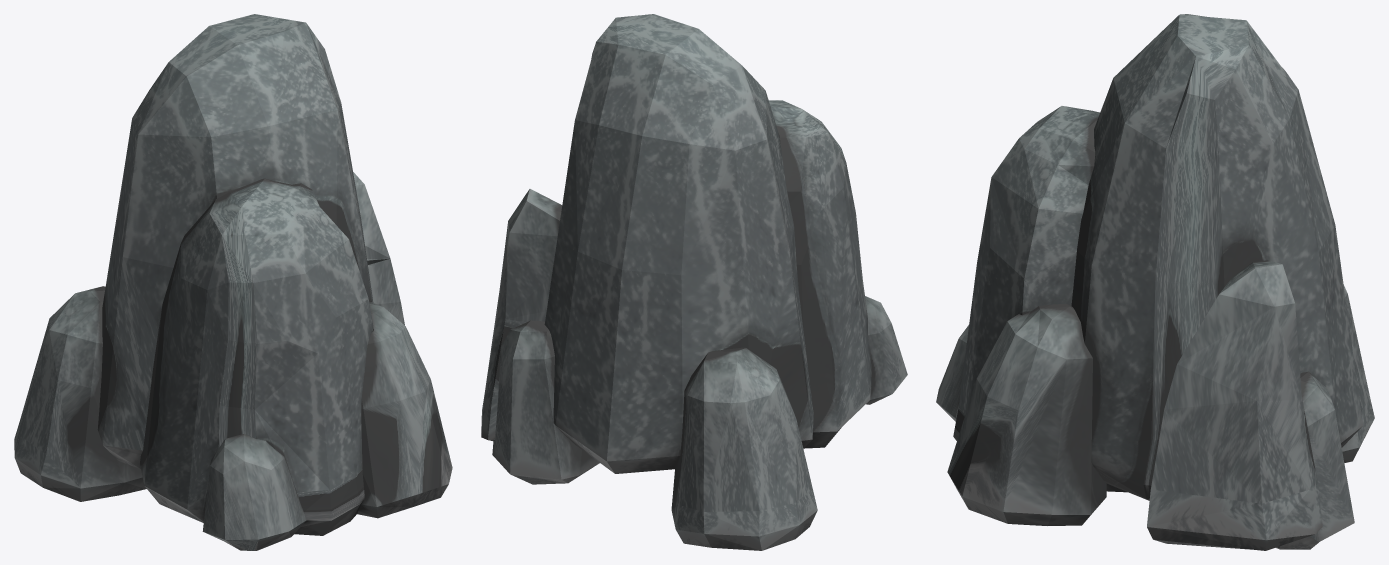
Rendered from ROK0110050.fbx.
3 renders of one model, left to right at view 1: azimuth 30°, elevation 25°; view 2: azimuth 150°, elevation 25°; view 3: azimuth 270°, elevation 25°, orthographic. The views are drawn at different scales.
Visible parts, largest first — view 1: smROK0110050; view 2: smROK0110050; view 3: smROK0110050.
Part boxes in pixels (left/top/right/bottom): smROK0110050: left=14, top=14, right=452, bottom=550; smROK0110050: left=481, top=14, right=907, bottom=550; smROK0110050: left=936, top=14, right=1374, bottom=550.
Bounding box in the file's own units: 90.58 × 114 × 93.41.
1 material, 1 textured.
